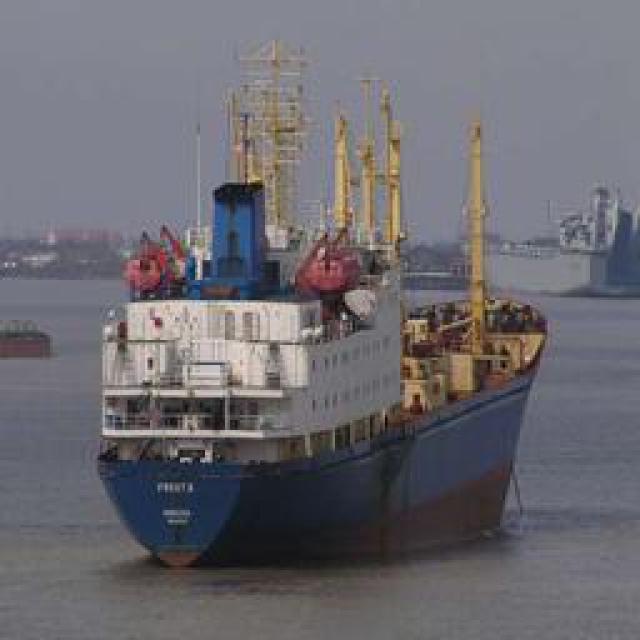Ship: (91, 74, 544, 579)
